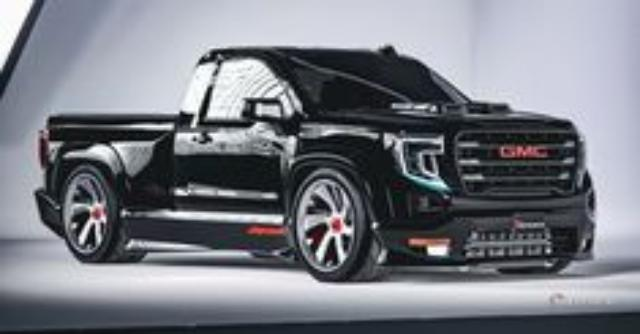pickup-truck: (34, 46, 598, 283)
